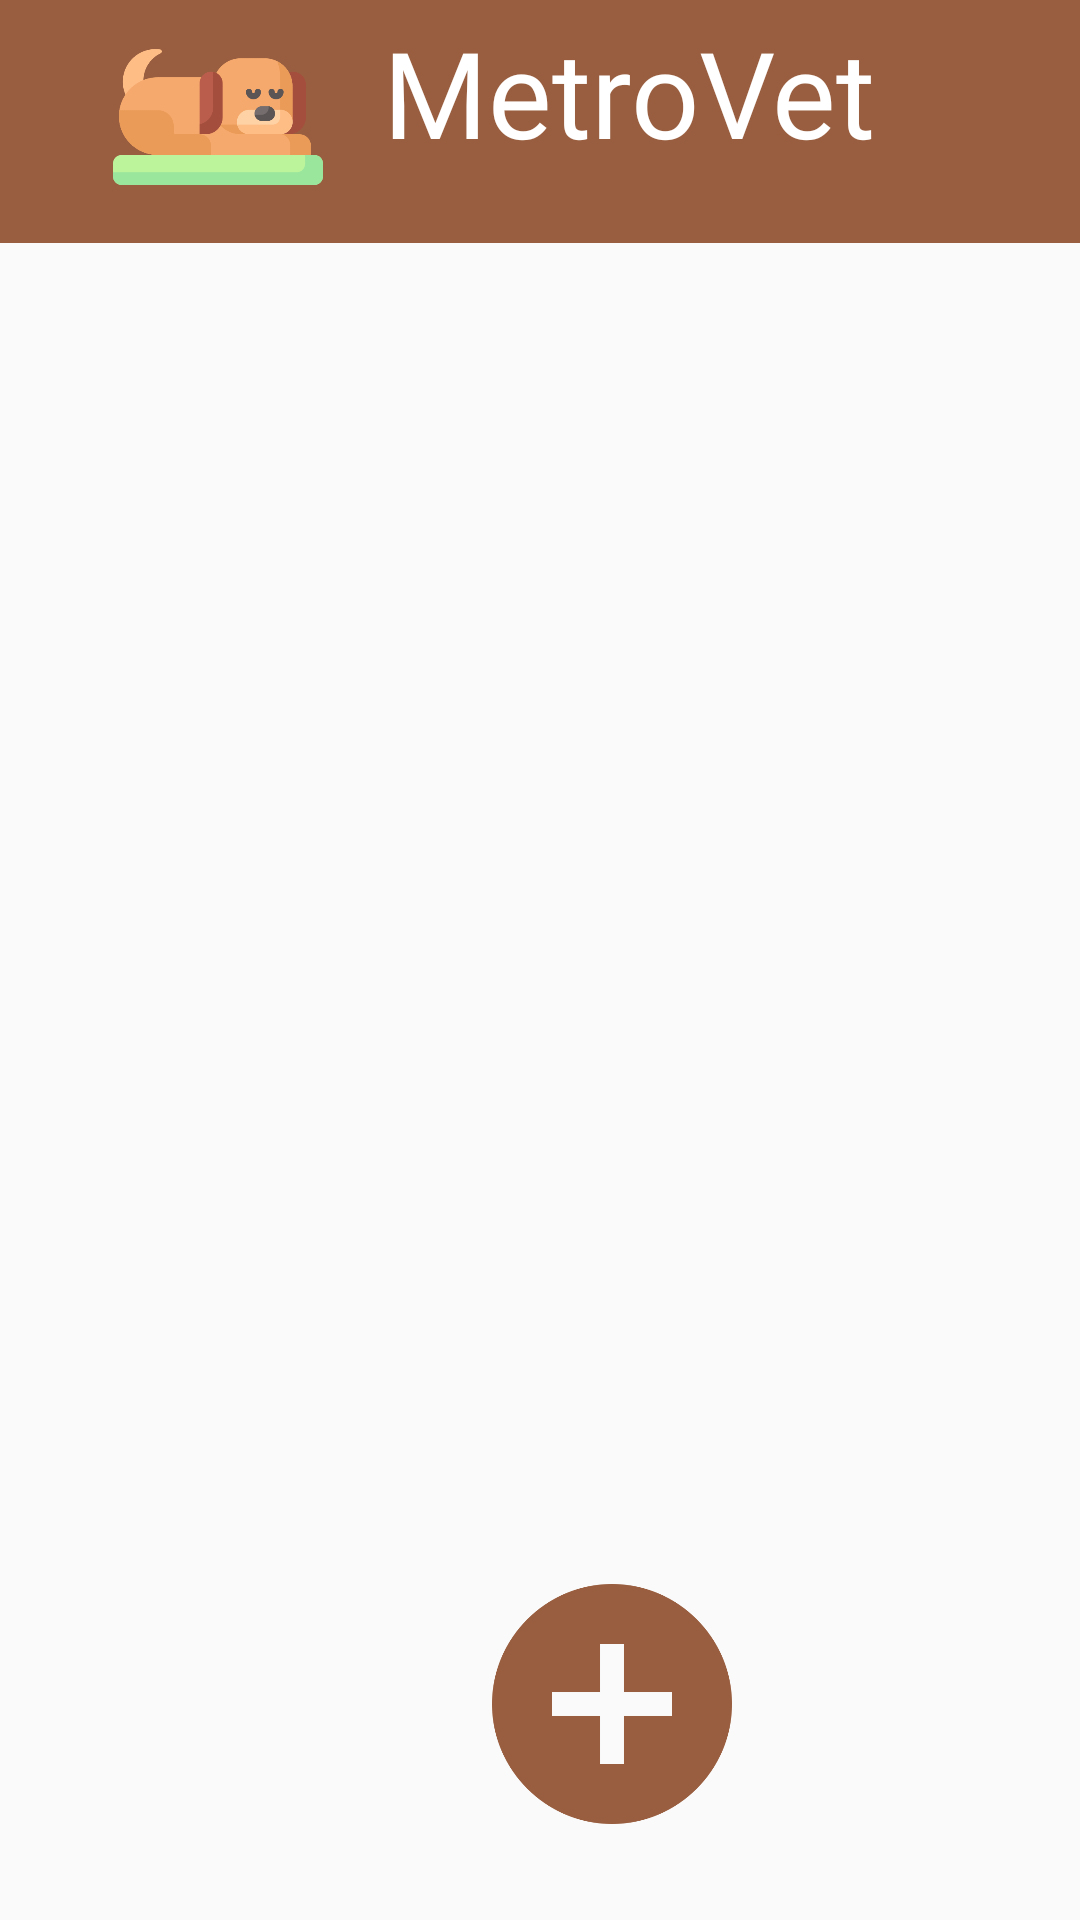

Named icons in this screenshot (1080×1920) and their centers, [x,y]:
add: [612,1704]
